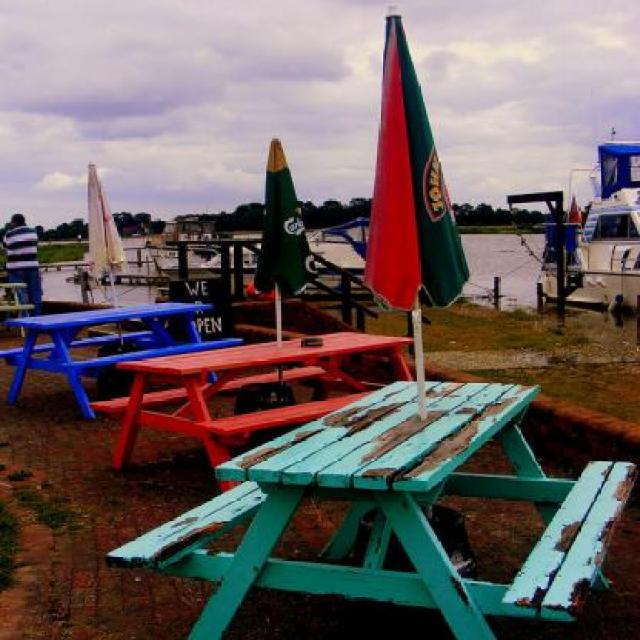ship: (539, 130, 638, 312)
